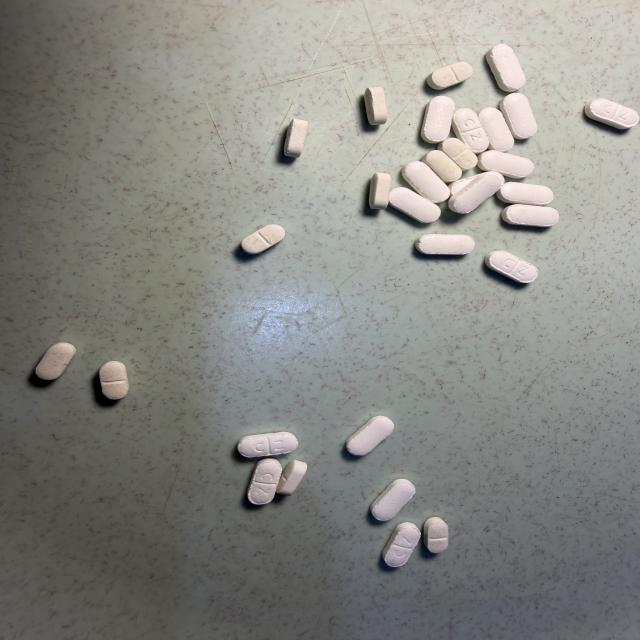pill: (449, 172, 504, 213), (402, 161, 450, 203), (346, 416, 394, 455), (370, 479, 415, 520), (486, 44, 525, 91), (390, 188, 440, 223), (500, 93, 537, 139), (485, 251, 538, 283), (382, 523, 420, 567), (452, 108, 488, 153), (585, 99, 639, 129), (421, 96, 455, 143), (248, 458, 282, 505), (478, 151, 534, 178), (479, 108, 514, 151), (238, 432, 298, 457), (36, 343, 75, 380), (242, 224, 285, 254), (422, 150, 461, 183), (498, 182, 553, 205), (438, 138, 477, 170), (427, 62, 473, 89), (415, 234, 474, 255), (502, 204, 558, 226), (99, 361, 129, 399), (277, 460, 307, 495), (284, 119, 308, 157), (424, 517, 448, 553), (365, 87, 387, 125), (369, 173, 390, 209), (449, 175, 478, 195), (449, 175, 477, 195)
